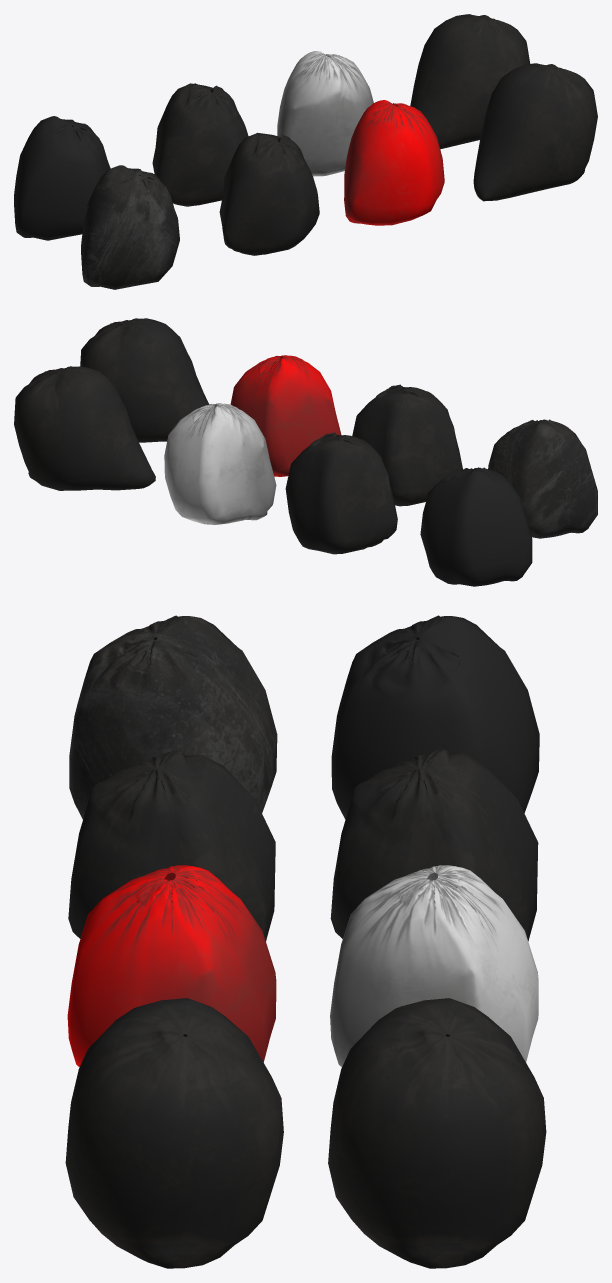
File: bags.obj
The picture shows the model from 3 angles, top to bottom: view 1: azimuth 30°, elevation 25°; view 2: azimuth 150°, elevation 25°; view 3: azimuth 270°, elevation 25°; orthographic projection. The views are drawn at different scales.
Parts seen in each view (by area): view 1: Garbage14__low.002_GarbageBags_4k_0; view 2: Garbage14__low.002_GarbageBags_4k_0; view 3: Garbage14__low.002_GarbageBags_4k_0.
Part boxes in pixels (bbox=[...]): Garbage14__low.002_GarbageBags_4k_0: bbox=[14, 14, 597, 289]; Garbage14__low.002_GarbageBags_4k_0: bbox=[14, 318, 597, 586]; Garbage14__low.002_GarbageBags_4k_0: bbox=[65, 615, 546, 1268].
Bounding box in the file's own units: 4.93 × 1.03 × 2.04.
